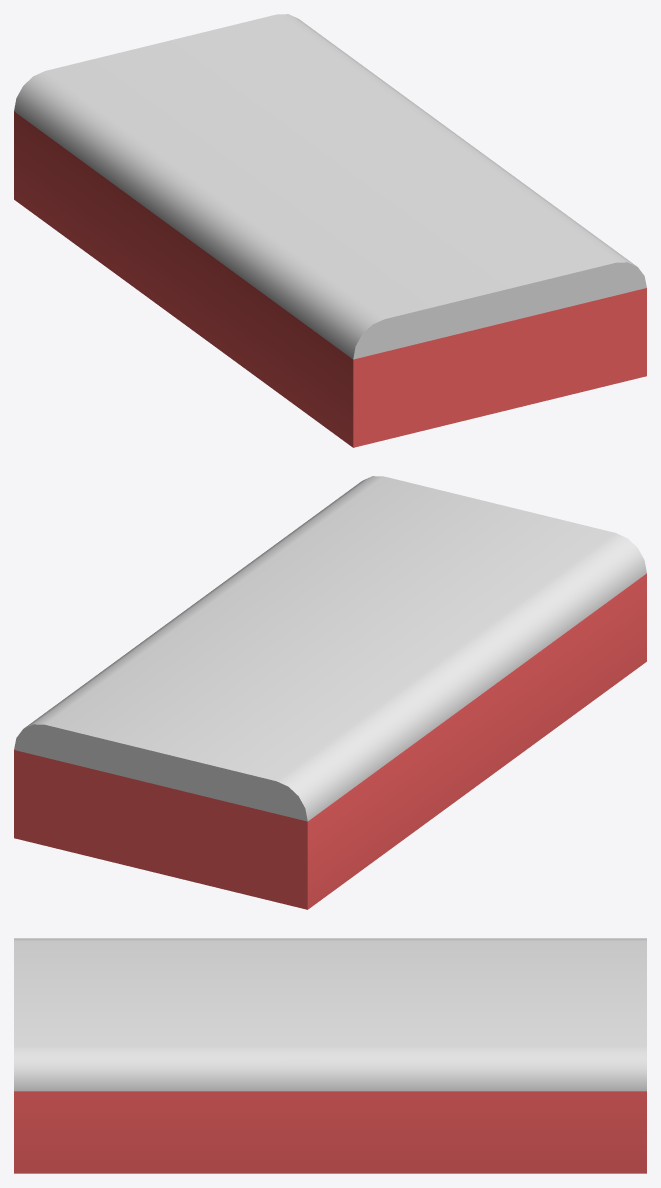
File: CubeForTile_07.3.fbx
3 views of the same model, one above another, from view 1: azimuth 30°, elevation 25°; view 2: azimuth 150°, elevation 25°; view 3: azimuth 270°, elevation 25° (orthographic). The views are drawn at different scales.
Parts seen in each view (by area): view 1: CubeForTile_07.3; view 2: CubeForTile_07.3; view 3: CubeForTile_07.3.
Boxes of the visible parts, x1,y1,x2,y2 form: CubeForTile_07.3: (14, 14, 646, 447); CubeForTile_07.3: (14, 476, 646, 909); CubeForTile_07.3: (14, 938, 646, 1173).
Bounding box in the file's own units: 100 × 39.37 × 200.
